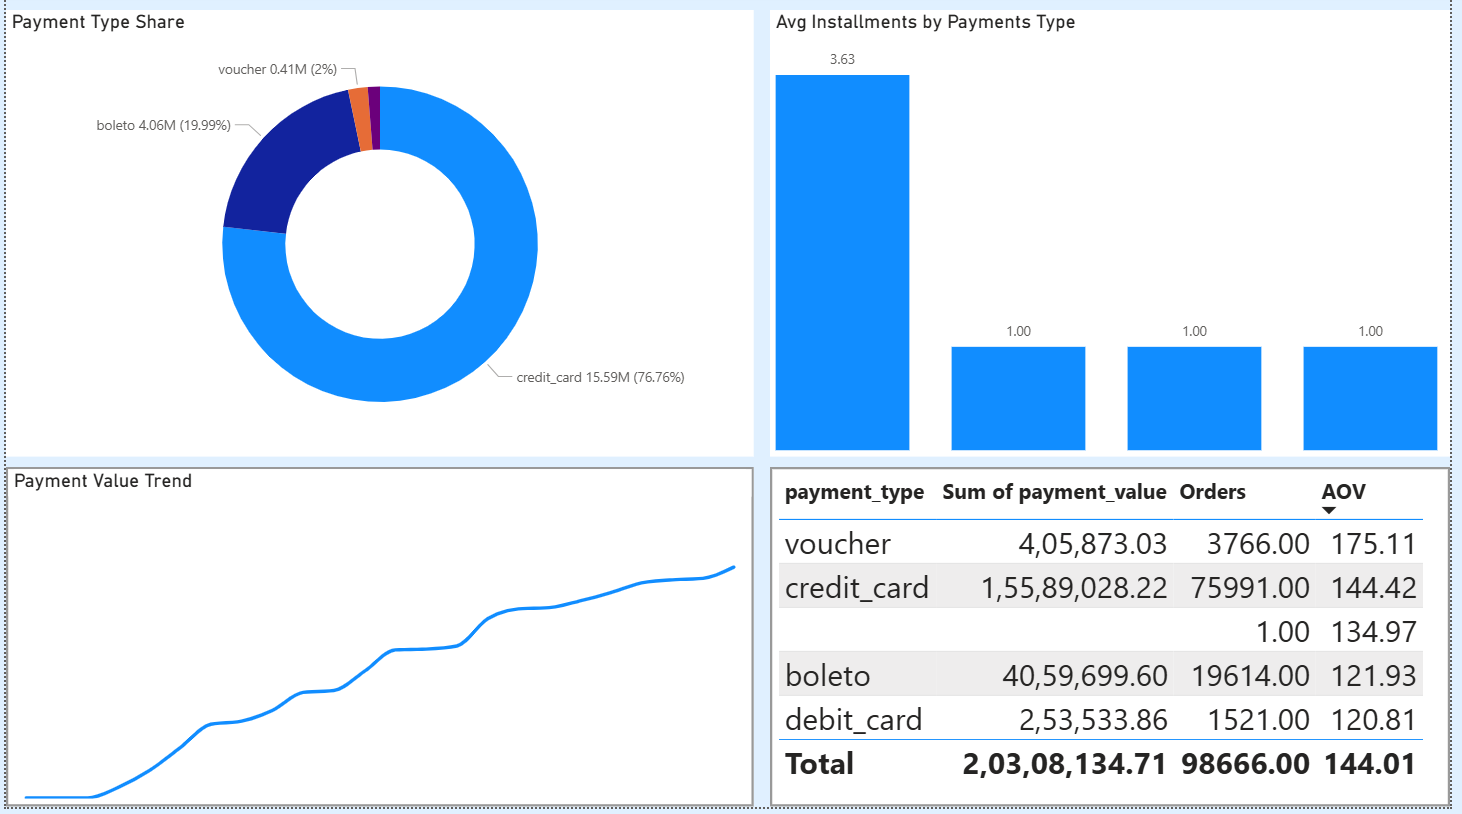

The page's visual inventory and layout, read from the dashboard file:
{"tool":"powerbi","page":{"name":"Payments","canvas":[1280,720],"ordinal":6},"visuals":[{"type":"donutChart","title":"Payment Type Share","fields":{"Category":["public bi_fact_sales.payment_type"],"Y":["Sum(public bi_fact_sales.payment_value)"]},"box":[0,13.3,663.3,396.4],"z":0},{"type":"clusteredColumnChart","title":"Avg Installments by Payments Type","fields":{"Category":["public bi_fact_sales.payment_type"],"Y":["public bi_fact_sales.Avg Installments"]},"box":[677.4,13.3,603,396.4],"z":1000},{"type":"lineChart","title":"Payment Value Trend","fields":{"Category":["DimDate.Year-Month"],"Y":["Sum(public bi_fact_sales.payment_value)"]},"box":[0,418.5,663.3,301.5],"z":2000},{"type":"tableEx","fields":{"Values":["public bi_fact_sales.payment_type","Sum(public bi_fact_sales.payment_value)","public bi_fact_sales.Orders","public bi_fact_sales.AOV"]},"box":[677.4,418.5,603,301.5],"z":3000}]}

Visuals, with their boxes in screenshot pixels (x1, y1, x2, y2), scaled from the page's 1280x720 canvas onto the 1462x814 screenshot:
"Payment Type Share" donutChart: 0, 15, 758, 463
"Avg Installments by Payments Type" clusteredColumnChart: 774, 15, 1461, 463
"Payment Value Trend" lineChart: 0, 473, 758, 813
tableEx - public bi_fact_sales.payment_type x Sum(public bi_fact_sales.payment_value): 774, 473, 1461, 813
